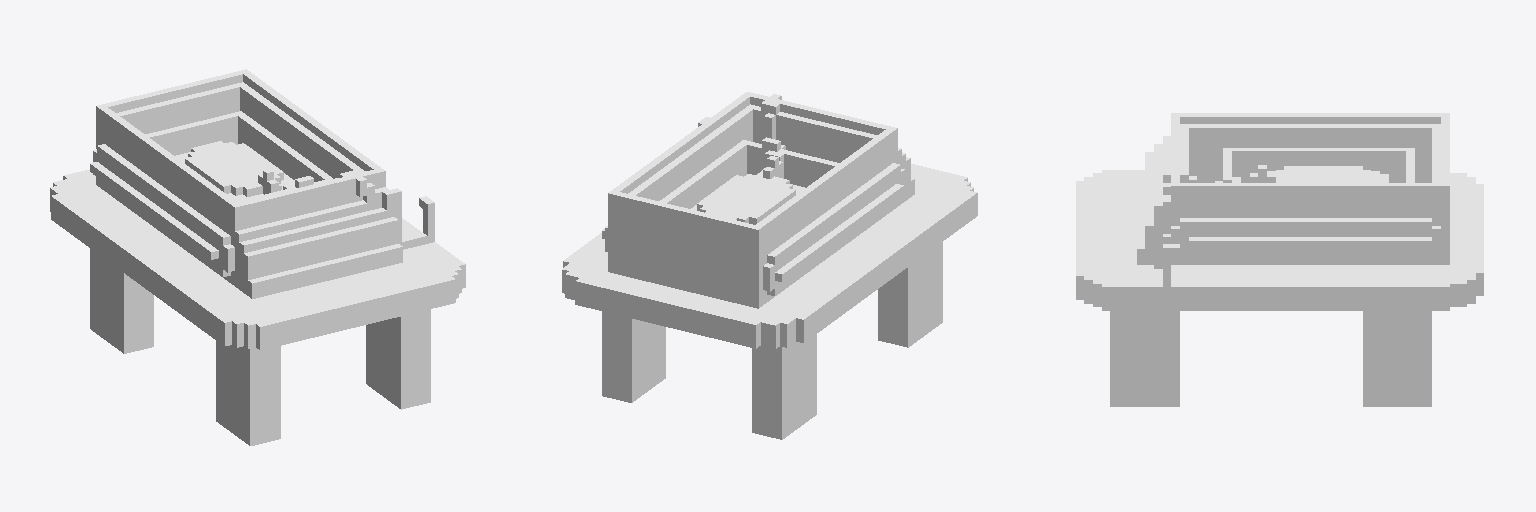
File: blood_device_full.obj
The picture shows the model from 3 angles: view 1: azimuth 30°, elevation 25°; view 2: azimuth 150°, elevation 25°; view 3: azimuth 270°, elevation 25°; orthographic projection.
Visible parts, largest first — view 1: blood_device_full; view 2: blood_device_full; view 3: blood_device_full.
Boxes of the visible parts, <box> form: blood_device_full: <box>50,69,465,445</box>; blood_device_full: <box>562,92,977,439</box>; blood_device_full: <box>1076,113,1483,406</box>.
Size of the model in its own units: 32 by 27 by 47.